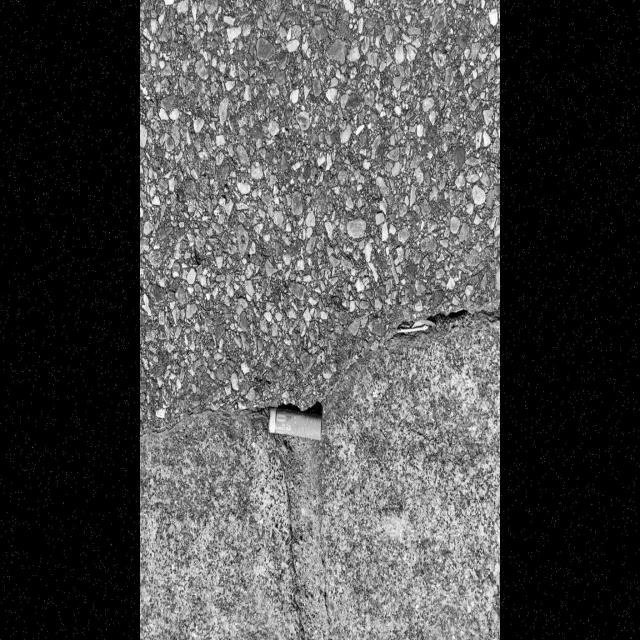other waste: (267, 406, 323, 442)
